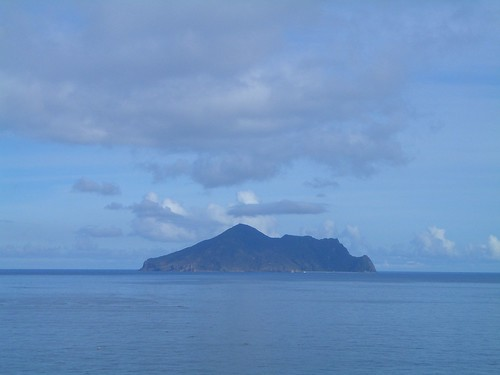turtleIsland: (136, 223, 377, 276)
